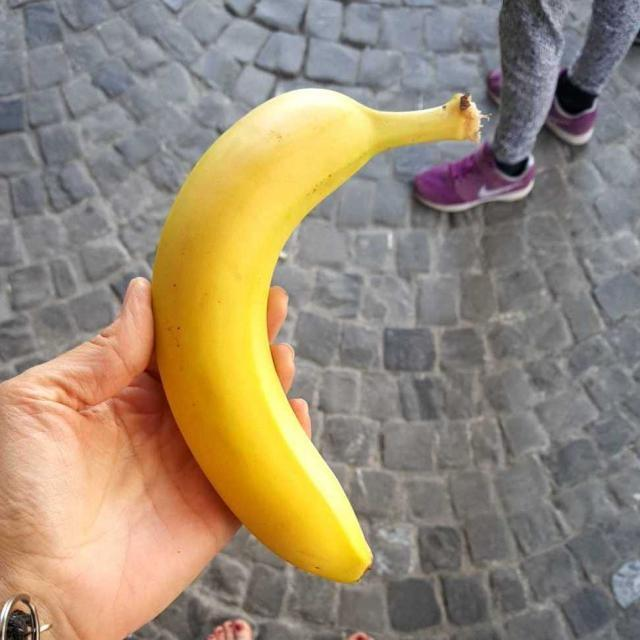banana: (150, 87, 481, 587)
